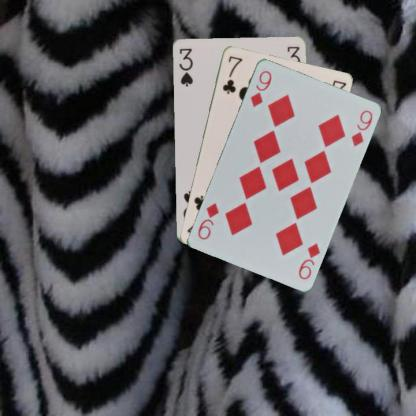3s: (176, 45, 194, 87)
7c: (219, 52, 244, 96)
9d: (295, 240, 321, 281), (247, 68, 273, 108)
